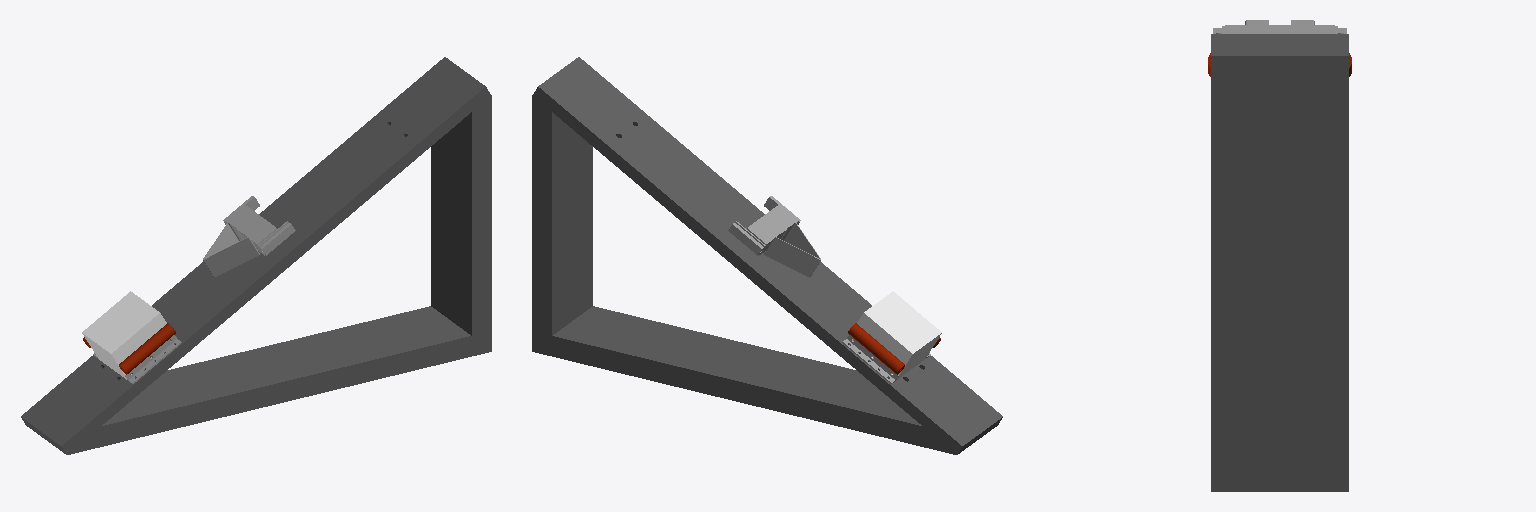
The robot description file, URDF, robot "robotDescription":
<?xml version="1.0" ?>
<!-- Generated using onshape-to-robot -->
<!-- Onshape https://cad.onshape.com/documents/f71873f371b6f1055f62b9c0/w/0de4f6b64e52cba69fbb3281/e/237818edb63ecf9d400ec518 -->
<robot name="robotDescription">
  <!-- Link part_1 -->
  <link name="part_1">
    <inertial>
      <origin xyz="0.133233 8.98542e-18 0.305474" rpy="0 0 0"/>
      <mass value="53.2845"/>
      <inertia ixx="4.49341" ixy="1.20405e-10" ixz="-3.28359" iyy="16.3024" iyz="6.95154e-11" izz="12.3911"/>
    </inertial>
    <!-- Part part_1 -->
    <visual>
      <origin xyz="-0.543884 0.11 0.235048" rpy="-1.5708 1.0472 -6.83926e-17"/>
      <geometry>
        <mesh filename="package://assets/part_1.stl"/>
      </geometry>
      <material name="part_1_material">
        <color rgba="0.596078 0.176471 0.0509804 1"/>
      </material>
    </visual>
    <collision>
      <origin xyz="-0.543884 0.11 0.235048" rpy="-1.5708 1.0472 -6.83926e-17"/>
      <geometry>
        <mesh filename="package://assets/part_1.stl"/>
      </geometry>
    </collision>
    <!-- Part part_1_3 -->
    <visual>
      <origin xyz="-0.427032 0 0.232654" rpy="2.49273e-17 -0.523599 -1.78052e-16"/>
      <geometry>
        <mesh filename="package://assets/part_1__3.stl"/>
      </geometry>
      <material name="part_1_3_material">
        <color rgba="0.917647 0.917647 0.917647 1"/>
      </material>
    </visual>
    <collision>
      <origin xyz="-0.427032 0 0.232654" rpy="2.49273e-17 -0.523599 -1.78052e-16"/>
      <geometry>
        <mesh filename="package://assets/part_1__3.stl"/>
      </geometry>
    </collision>
    <!-- Part part_1_4 -->
    <visual>
      <origin xyz="0 0 0" rpy="0 -0 0"/>
      <geometry>
        <mesh filename="package://assets/part_1__4.stl"/>
      </geometry>
      <material name="part_1_4_material">
        <color rgba="0.4 0.4 0.4 1"/>
      </material>
    </visual>
    <collision>
      <origin xyz="0 0 0" rpy="0 -0 0"/>
      <geometry>
        <mesh filename="package://assets/part_1__4.stl"/>
      </geometry>
    </collision>
    <!-- Part part_1_5 -->
    <visual>
      <origin xyz="-0.340429 -0.09 0.282654" rpy="0.523599 7.70988e-18 -1.5708"/>
      <geometry>
        <mesh filename="package://assets/part_1__5.stl"/>
      </geometry>
      <material name="part_1_5_material">
        <color rgba="0.647059 0.647059 0.647059 1"/>
      </material>
    </visual>
    <collision>
      <origin xyz="-0.340429 -0.09 0.282654" rpy="0.523599 7.70988e-18 -1.5708"/>
      <geometry>
        <mesh filename="package://assets/part_1__5.stl"/>
      </geometry>
    </collision>
    <!-- Part part_1_6 -->
    <visual>
      <origin xyz="-0.526625 0 0.175154" rpy="-0.523599 5.55112e-17 1.5708"/>
      <geometry>
        <mesh filename="package://assets/part_1__6.stl"/>
      </geometry>
      <material name="part_1_6_material">
        <color rgba="0.4 0.4 0.4 1"/>
      </material>
    </visual>
    <collision>
      <origin xyz="-0.526625 0 0.175154" rpy="-0.523599 5.55112e-17 1.5708"/>
      <geometry>
        <mesh filename="package://assets/part_1__6.stl"/>
      </geometry>
    </collision>
    <!-- Part part_1_7 -->
    <visual>
      <origin xyz="-0.370679 -0.11 0.335048" rpy="1.5708 -1.0472 3.14159"/>
      <geometry>
        <mesh filename="package://assets/part_1.stl"/>
      </geometry>
      <material name="part_1_7_material">
        <color rgba="0.596078 0.176471 0.0509804 1"/>
      </material>
    </visual>
    <collision>
      <origin xyz="-0.370679 -0.11 0.335048" rpy="1.5708 -1.0472 3.14159"/>
      <geometry>
        <mesh filename="package://assets/part_1.stl"/>
      </geometry>
    </collision>
    <!-- Part part_1_8 -->
    <visual>
      <origin xyz="-0.513634 0.09 0.182654" rpy="-0.523599 5.55112e-17 1.5708"/>
      <geometry>
        <mesh filename="package://assets/part_1__5.stl"/>
      </geometry>
      <material name="part_1_8_material">
        <color rgba="0.647059 0.647059 0.647059 1"/>
      </material>
    </visual>
    <collision>
      <origin xyz="-0.513634 0.09 0.182654" rpy="-0.523599 5.55112e-17 1.5708"/>
      <geometry>
        <mesh filename="package://assets/part_1__5.stl"/>
      </geometry>
    </collision>
  </link>
  <!-- Separate link for part_1_2 with slider joint (realistic physics) -->
  <link name="part_1_2">
    <inertial>
      <origin xyz="0 0 0" rpy="0 0 0"/>
      <mass value="5.0"/>
      <inertia ixx="0.1" ixy="0" ixz="0" iyy="0.1" iyz="0" izz="0.1"/>
    </inertial>
    <visual>
      <origin xyz="0 0 0" rpy="0 0 0"/>
      <geometry>
        <mesh filename="package://assets/part_1__2.stl"/>
      </geometry>
      <material name="part_1_2_material">
        <color rgba="0.647059 0.647059 0.647059 1"/>
      </material>
    </visual>
    <collision>
      <origin xyz="0 0 0" rpy="0 0 0"/>
      <geometry>
        <mesh filename="package://assets/part_1__2.stl"/>
      </geometry>
    </collision>
  </link>
  <!-- Prismatic (slider) joint for part_1_2 - gravity controlled -->
  <joint name="slider_joint_part_1_2" type="prismatic">
    <parent link="part_1"/>
    <child link="part_1_2"/>
    <origin xyz="-0.015609 4.16334e-17 0.540048" rpy="-3.14159 0.523599 -3.14159"/>
    <axis xyz="1 0 0"/>
    <limit effort="100" lower="-0.36" upper="0.375" velocity="10000.0"/>
    <dynamics damping="0.0" friction="0.0"/>
  </joint>
</robot>

--- What the picture shows (computed from the rendered views, not written in the file) ---
The picture shows the robot from 3 angles, left to right: view 1: azimuth 30°, elevation 25°; view 2: azimuth 150°, elevation 25°; view 3: azimuth 270°, elevation 25°; orthographic projection.
Robot: robotDescription — 2 links, 1 joints (1 prismatic); root link part_1; default pose: all joints at 0.
Visible links, largest first — view 1: part_1, part_1_2; view 2: part_1, part_1_2; view 3: part_1, part_1_2.
Boxes of the visible links, left/top/right/bottom form: part_1: left=21, top=57, right=491, bottom=454; part_1_2: left=203, top=196, right=295, bottom=277; part_1: left=532, top=57, right=1002, bottom=454; part_1_2: left=728, top=196, right=820, bottom=277; part_1: left=1208, top=34, right=1351, bottom=491; part_1_2: left=1213, top=20, right=1346, bottom=33.
Bounding box of the posed robot: 1.52 × 0.26 × 0.9007 m (x, y, z).
Meshes: 6 distinct files referenced, 7 mesh visuals loaded (5 binary STL); not drawn: 1 (reference not matched to a file when rendering).